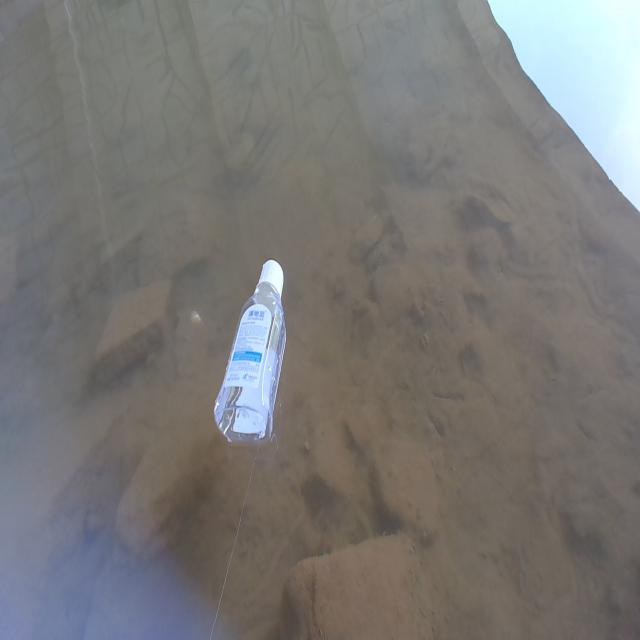bottle: (198, 225, 303, 472)
